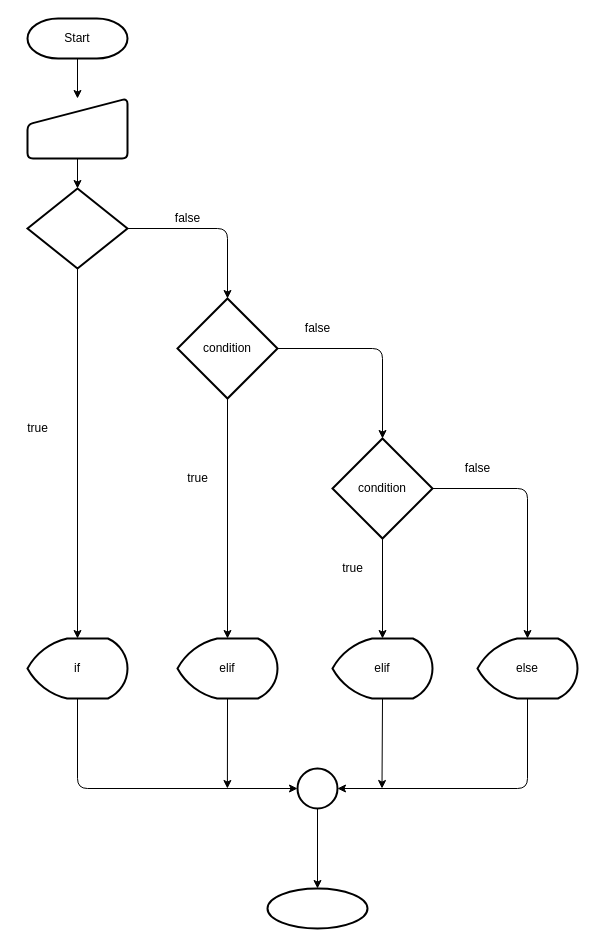
The diagram is 595 pixels wide and 946 high, and some of its shapes have lost their labels. The shapes that lost their labels are listed below. From the top down, each one's centre as x and y in pixels, then its label:
At (x=77, y=128): "inchar".
At (x=77, y=228): ">=A and <=Z".
